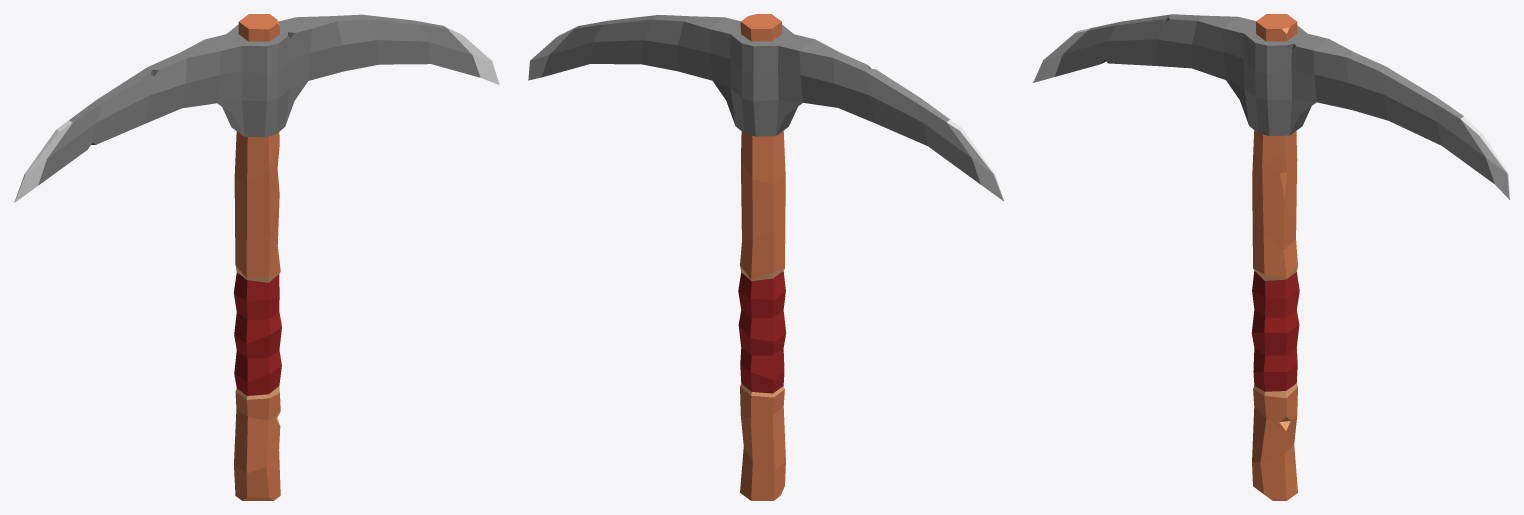
File: pickaxe.glb
3 renders of one model, left to right at view 1: azimuth 30°, elevation 25°; view 2: azimuth 150°, elevation 25°; view 3: azimuth 330°, elevation 25°, orthographic.
Visible parts, largest first — view 1: Stonebreaker_Pickaxe; view 2: Stonebreaker_Pickaxe; view 3: Stonebreaker_Pickaxe.
Boxes of the visible parts, x1=… form: Stonebreaker_Pickaxe: x1=14, y1=14, x2=499, y2=500; Stonebreaker_Pickaxe: x1=528, y1=14, x2=1004, y2=500; Stonebreaker_Pickaxe: x1=1033, y1=14, x2=1509, y2=500.
Size of the model in its own units: 1.73 by 1.63 by 0.1827.
Materials: 1 (1 with a texture image).
